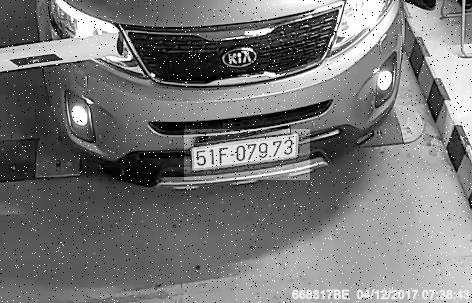License-plate: (185, 130, 311, 181)
